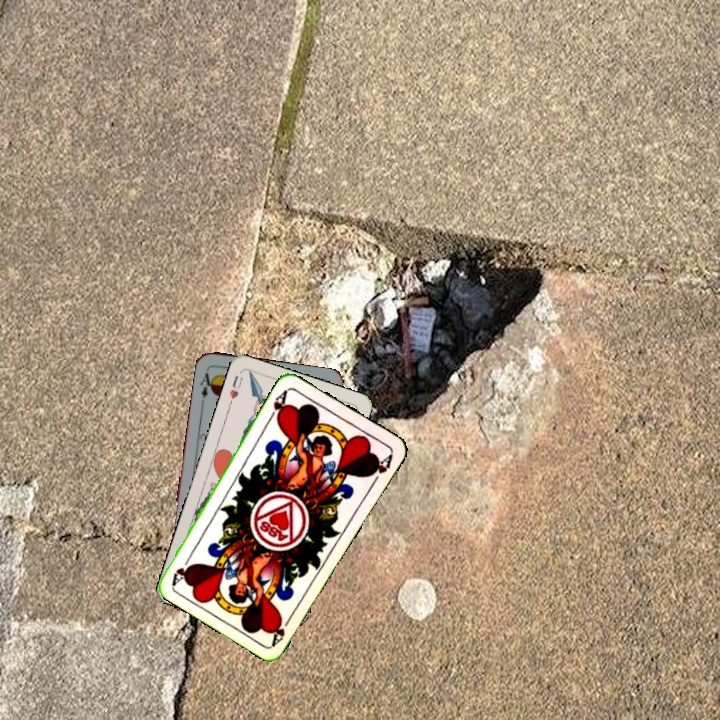EA: (196, 369, 217, 406)
HA: (267, 610, 295, 647), (265, 386, 291, 424)
HU: (225, 371, 246, 409)
